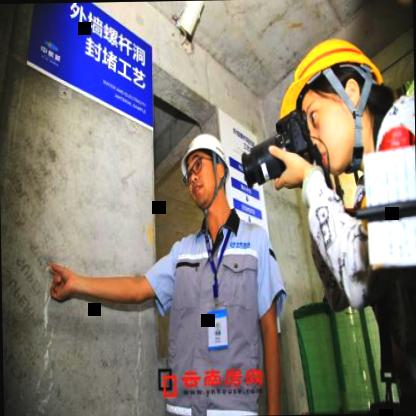helmet: (270, 22, 386, 180), (176, 124, 236, 214)
